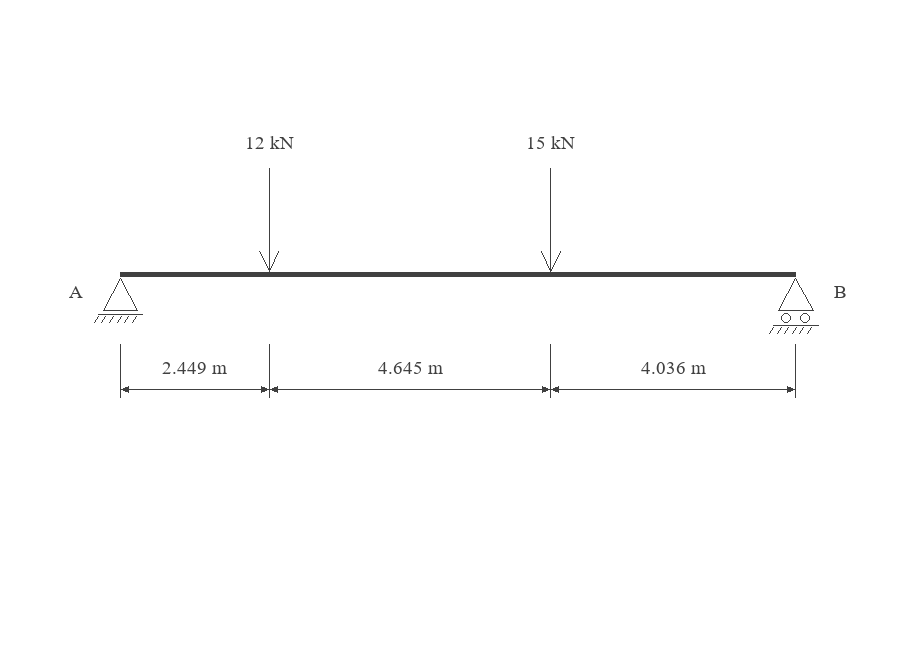pin_support: (94, 278, 143, 323)
point_load: (259, 168, 279, 272), (541, 168, 561, 272)
roller_support: (769, 278, 819, 334)
